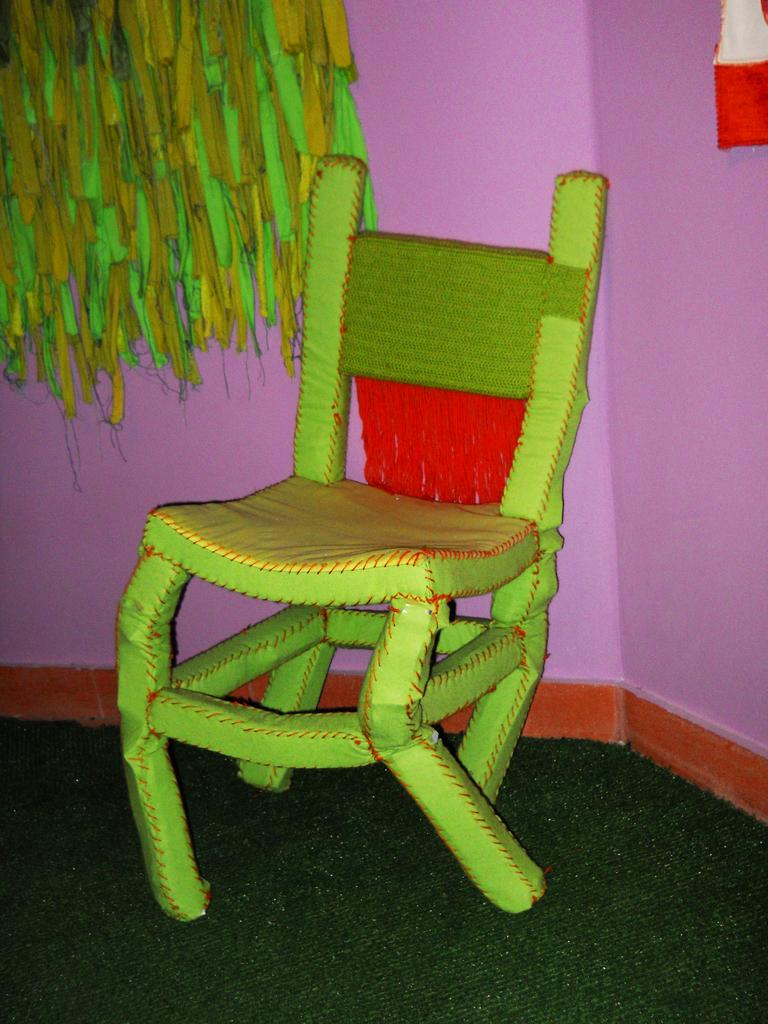Chair: (113, 141, 618, 957)
